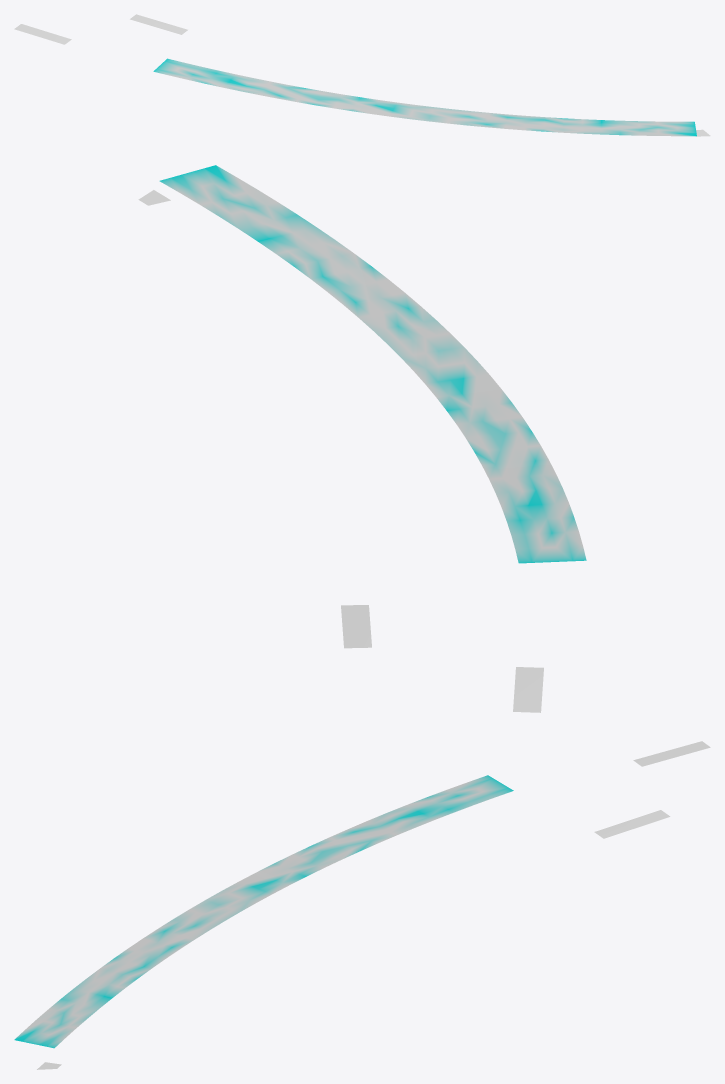
File: cell_151_102.fbx
The picture shows the model from 3 angles, top to bottom: view 1: azimuth 30°, elevation 25°; view 2: azimuth 150°, elevation 25°; view 3: azimuth 270°, elevation 25°; orthographic projection. The views are drawn at different scales.
Parts seen in each view (by area): view 1: SpaceCenter_Long3_GenerateRoad_Asphalt_PCGMesh_Decal_Mesh_x9, SpaceCenter_Long3_GenerateRoad_JTDecal_Asphalt_BM_Line_Mesh_; view 2: SpaceCenter_Long3_GenerateRoad_Asphalt_PCGMesh_Decal_Mesh_x9, SpaceCenter_Long3_GenerateRoad_JTDecal_Asphalt_BM_Line_Mesh_; view 3: SpaceCenter_Long3_GenerateRoad_Asphalt_PCGMesh_Decal_Mesh_x9, SpaceCenter_Long3_GenerateRoad_JTDecal_Asphalt_BM_Line_Mesh_.
Part boxes in pixels (x1=…): SpaceCenter_Long3_GenerateRoad_Asphalt_PCGMesh_Decal_Mesh_x9: x1=153, y1=58, x2=696, y2=136; SpaceCenter_Long3_GenerateRoad_JTDecal_Asphalt_BM_Line_Mesh_: x1=14, y1=14, x2=710, y2=136; SpaceCenter_Long3_GenerateRoad_Asphalt_PCGMesh_Decal_Mesh_x9: x1=159, y1=165, x2=586, y2=563; SpaceCenter_Long3_GenerateRoad_JTDecal_Asphalt_BM_Line_Mesh_: x1=138, y1=190, x2=543, y2=712; SpaceCenter_Long3_GenerateRoad_Asphalt_PCGMesh_Decal_Mesh_x9: x1=14, y1=775, x2=513, y2=1048; SpaceCenter_Long3_GenerateRoad_JTDecal_Asphalt_BM_Line_Mesh_: x1=37, y1=741, x2=710, y2=1069.
Bounding box in the file's own units: 28.62 × 2.09 × 29.35.
